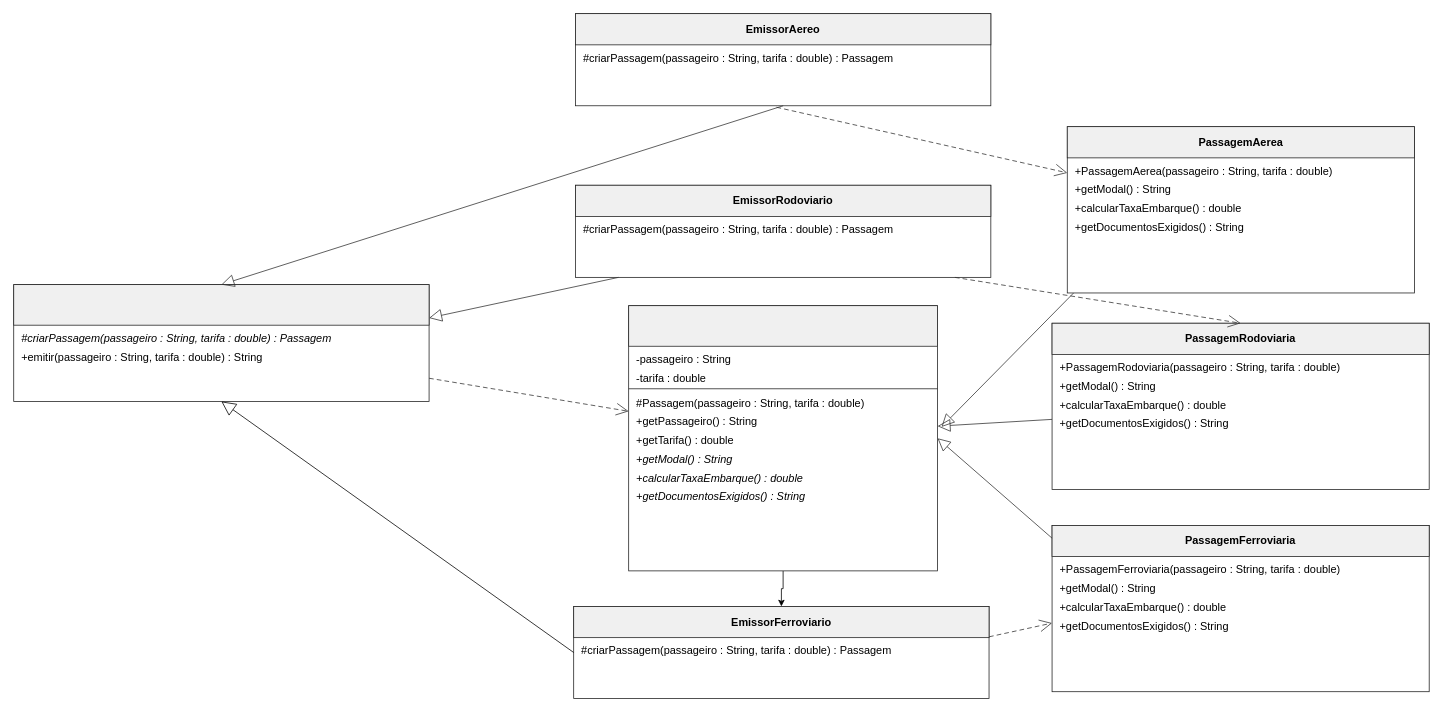
Image size: 1443x713. Some labels were removed from this diagram. The shapes that lost their labels are listed below. From the top down, each one's centre as x and y in pixels, then its label:
(221,304): abstract EmissorPassagem
(783,325): abstract Passagem
